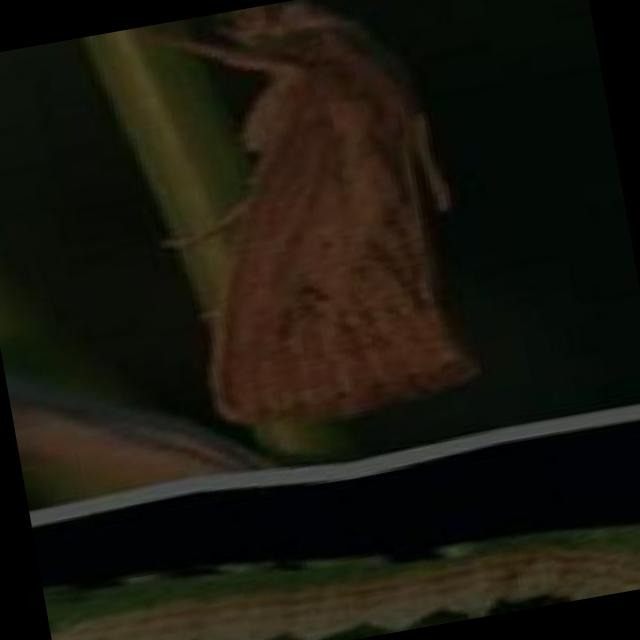stem-borer: (119, 0, 506, 445)
